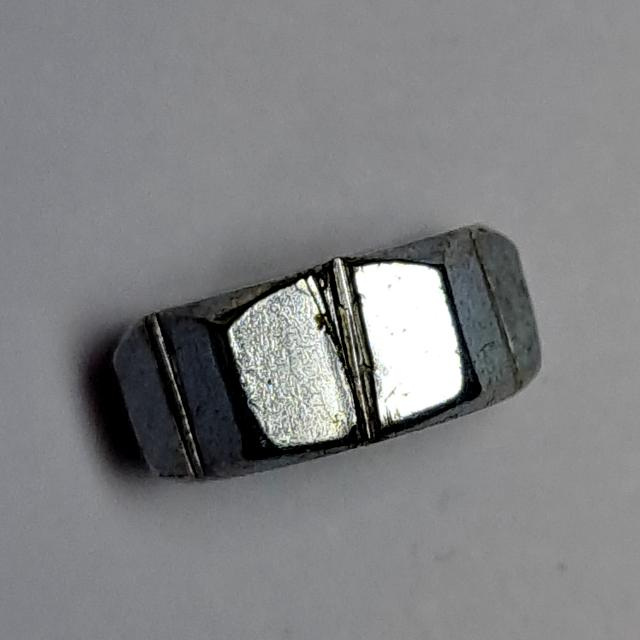Side_Scratches: (100, 218, 552, 492)
